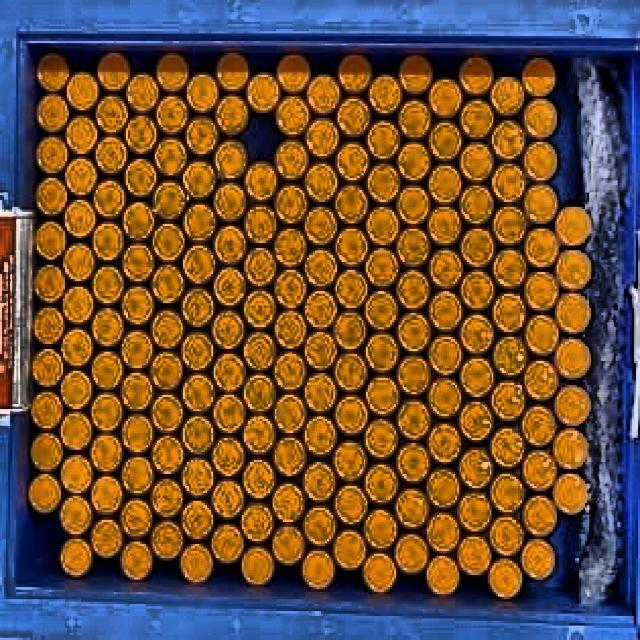vial: (457, 445, 495, 489), (427, 246, 465, 290), (362, 461, 400, 504), (552, 472, 590, 515), (488, 426, 526, 469), (458, 312, 495, 356), (362, 550, 398, 595), (555, 249, 594, 290), (457, 399, 495, 441), (554, 385, 592, 427), (393, 533, 430, 576), (519, 538, 556, 581), (489, 378, 526, 421), (425, 510, 461, 554), (554, 336, 590, 380), (426, 77, 464, 118), (394, 487, 431, 529), (426, 377, 463, 419), (523, 359, 560, 401), (427, 120, 464, 162), (178, 542, 214, 585), (242, 458, 278, 501), (300, 548, 336, 591), (459, 225, 495, 268), (336, 95, 372, 138), (523, 227, 561, 267), (489, 472, 526, 513), (459, 356, 496, 397), (522, 314, 559, 355), (428, 291, 465, 332), (491, 292, 528, 333), (458, 55, 495, 96), (458, 98, 495, 139), (243, 161, 279, 203), (149, 476, 185, 518), (180, 456, 216, 498), (210, 434, 246, 476), (333, 483, 369, 525), (332, 440, 368, 482), (456, 535, 492, 577), (489, 514, 525, 556), (487, 557, 523, 599), (456, 491, 492, 533), (522, 495, 558, 537), (522, 449, 558, 491), (426, 422, 462, 464), (521, 403, 557, 445), (492, 248, 528, 290), (555, 204, 591, 246), (492, 204, 528, 246), (305, 73, 341, 115), (396, 141, 432, 183), (459, 141, 495, 183), (120, 454, 155, 497), (150, 518, 185, 561), (302, 461, 337, 504), (332, 529, 367, 572), (363, 417, 398, 460), (395, 269, 430, 312), (459, 269, 494, 312), (305, 117, 340, 160), (367, 73, 402, 116), (365, 118, 400, 161), (363, 290, 400, 330), (522, 184, 559, 224), (213, 140, 249, 181), (119, 329, 155, 370), (89, 474, 125, 515), (58, 494, 94, 535), (58, 538, 94, 579), (364, 332, 400, 373), (396, 312, 432, 353), (555, 292, 591, 333), (333, 184, 369, 225), (522, 141, 558, 182), (180, 330, 215, 372), (212, 393, 247, 435), (211, 478, 246, 520), (365, 375, 400, 417), (396, 354, 431, 396), (240, 502, 275, 544), (302, 505, 337, 547), (303, 415, 338, 457), (425, 555, 460, 597), (426, 467, 461, 509), (492, 335, 527, 377), (428, 334, 463, 376), (275, 95, 310, 137), (274, 138, 309, 180), (335, 141, 370, 183), (398, 98, 433, 140), (523, 98, 558, 140), (398, 53, 433, 95), (333, 352, 369, 392), (332, 310, 368, 350), (395, 442, 431, 482), (396, 399, 432, 439), (364, 248, 400, 288), (490, 119, 526, 159), (65, 71, 100, 112), (126, 72, 161, 113), (120, 285, 155, 326), (181, 286, 216, 327), (149, 309, 184, 350), (58, 369, 93, 410), (120, 371, 155, 412), (181, 414, 216, 455), (119, 498, 154, 539), (210, 523, 245, 564), (273, 352, 308, 393), (334, 394, 369, 435), (272, 436, 307, 477), (363, 508, 398, 549), (553, 429, 588, 470), (273, 308, 308, 349), (302, 205, 337, 246), (304, 161, 339, 202), (366, 162, 401, 203), (491, 162, 526, 203), (490, 76, 525, 117), (185, 115, 219, 157), (31, 306, 65, 348), (29, 389, 63, 431), (90, 516, 124, 558), (120, 540, 154, 582), (271, 525, 305, 567), (241, 546, 275, 588), (524, 271, 558, 313), (522, 55, 556, 97), (28, 433, 64, 472), (35, 134, 70, 174), (182, 202, 217, 242), (88, 432, 123, 472), (303, 373, 338, 413), (212, 308, 246, 349), (90, 350, 124, 391), (60, 327, 94, 368), (242, 415, 276, 456), (243, 330, 277, 371), (181, 499, 215, 540), (273, 393, 307, 434), (304, 247, 338, 288), (273, 227, 307, 268), (365, 205, 399, 246), (335, 226, 369, 267), (396, 184, 430, 225), (338, 52, 372, 93), (244, 204, 277, 246), (213, 351, 246, 393), (124, 115, 159, 154), (182, 373, 217, 412), (243, 247, 277, 287), (152, 222, 186, 262), (30, 348, 64, 388), (59, 410, 93, 450), (243, 372, 277, 412), (151, 435, 185, 475), (303, 331, 337, 371), (304, 289, 338, 329), (272, 483, 306, 523), (273, 268, 307, 308), (396, 227, 430, 267), (427, 206, 461, 246), (277, 53, 311, 93), (95, 93, 128, 134), (93, 178, 126, 219), (213, 266, 246, 307), (91, 264, 124, 305), (151, 392, 183, 434), (459, 185, 494, 223), (97, 53, 131, 92), (94, 137, 128, 176), (34, 221, 68, 260), (62, 243, 96, 282), (154, 137, 188, 176), (156, 96, 190, 135), (182, 244, 216, 283), (150, 264, 184, 303), (91, 307, 125, 346), (149, 351, 183, 390), (120, 413, 154, 452), (243, 288, 277, 327), (335, 269, 369, 308), (427, 164, 461, 203), (34, 177, 67, 217), (61, 286, 94, 326), (187, 74, 220, 114), (183, 161, 216, 201), (213, 182, 246, 222), (213, 226, 246, 266), (60, 454, 93, 494), (28, 473, 61, 513), (274, 184, 307, 224), (92, 221, 124, 262), (37, 93, 70, 132), (65, 156, 98, 195), (63, 199, 96, 238), (124, 158, 157, 197), (152, 180, 185, 219), (215, 95, 248, 134), (121, 242, 154, 281), (65, 115, 97, 155), (34, 264, 66, 304), (248, 74, 280, 114), (91, 391, 123, 431), (122, 202, 155, 240), (37, 52, 69, 91), (156, 55, 190, 91), (218, 53, 248, 92)
